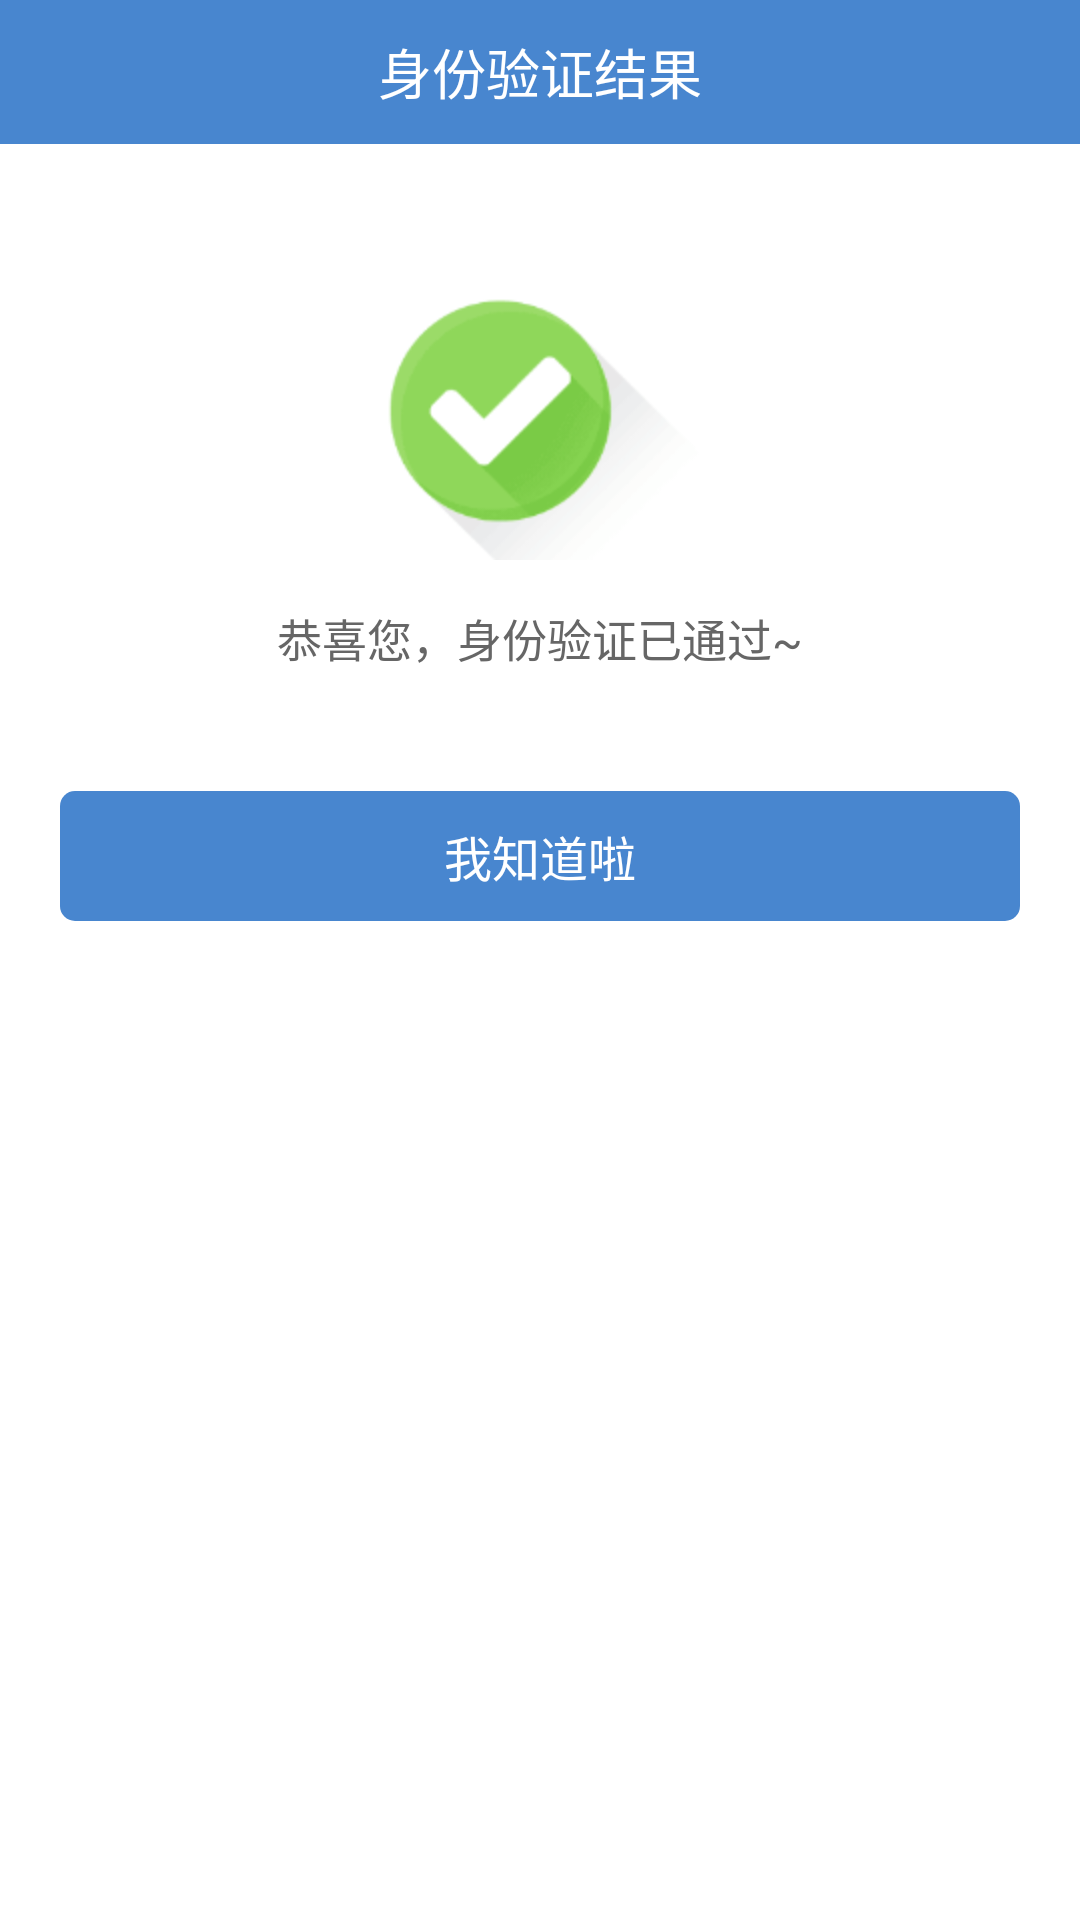

Named icons in this screenshot (1080px×1920px) and their bounding boxes, (x1, y1, x2, y2):
success: (389, 300, 612, 523)
